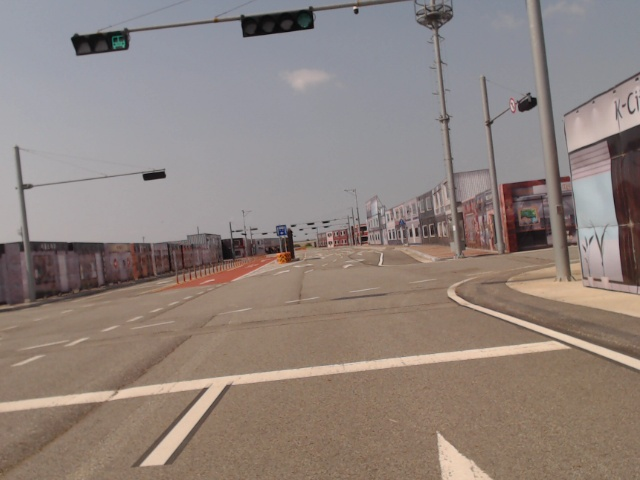straight_green_4: (243, 8, 313, 38)
